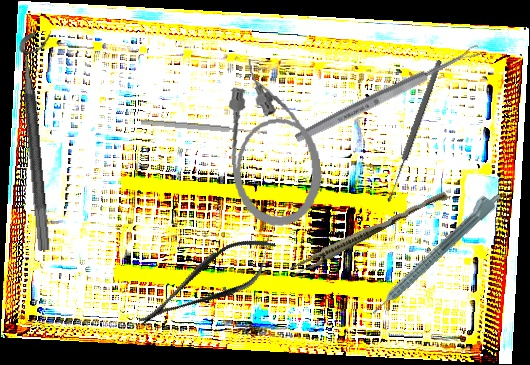Cannula: (220, 52, 327, 231)
Fixation Ring: (17, 31, 69, 251)
Handpiece: (363, 185, 504, 319)
Micro Scissor: (126, 223, 288, 342)
Surgical Spoon: (293, 42, 483, 146), (384, 59, 444, 203), (140, 118, 268, 137)
Tissue Forceps: (288, 185, 449, 280)
